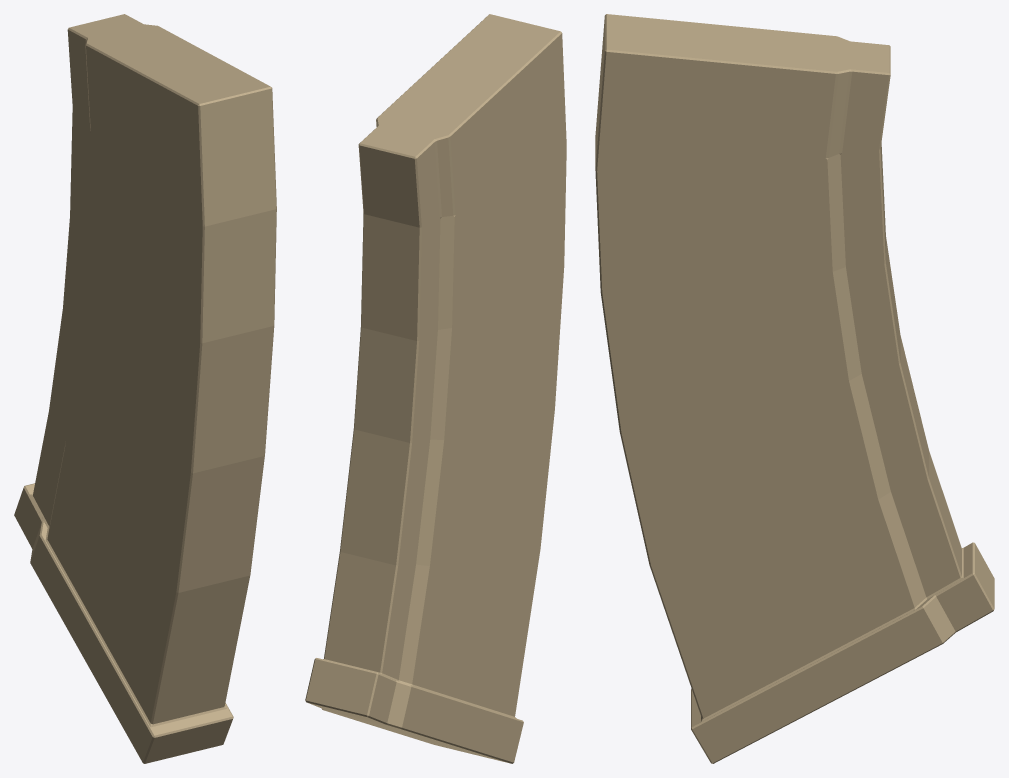
File: burst_rifle_magazine.glb
3 views of the same model, side by side, from view 1: azimuth 30°, elevation 25°; view 2: azimuth 150°, elevation 25°; view 3: azimuth 270°, elevation 25° (orthographic). The views are drawn at different scales.
Visible parts, largest first — view 1: AssaultRifle2_1_part.001; view 2: AssaultRifle2_1_part.001; view 3: AssaultRifle2_1_part.001.
Boxes of the visible parts, x1,y1,x2,y2 form: AssaultRifle2_1_part.001: [14, 14, 276, 763]; AssaultRifle2_1_part.001: [305, 14, 566, 763]; AssaultRifle2_1_part.001: [595, 14, 994, 763].
Bounding box in the file's own units: 0.0222 × 0.1822 × 0.0924.
